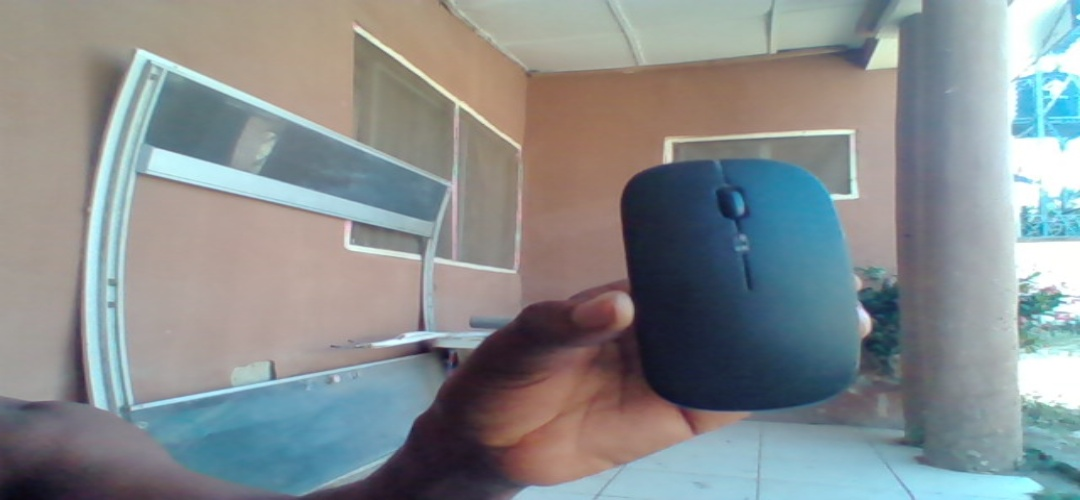wireless_mouse: (620, 155, 866, 413)
